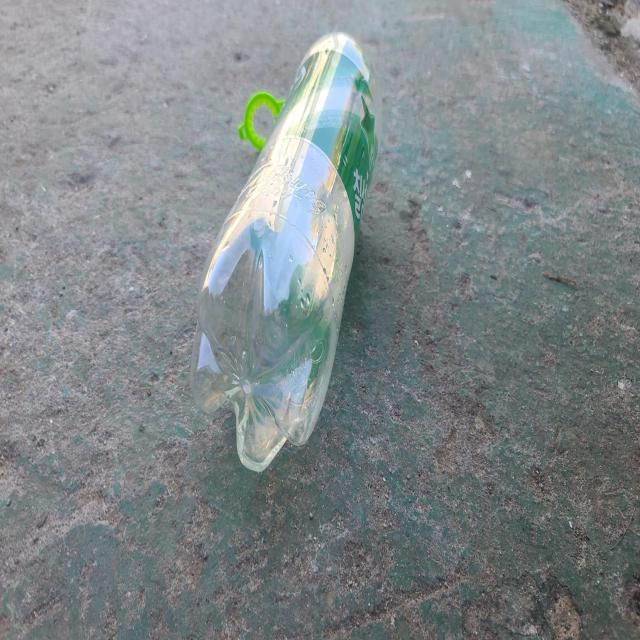plastic: (191, 31, 382, 471)
